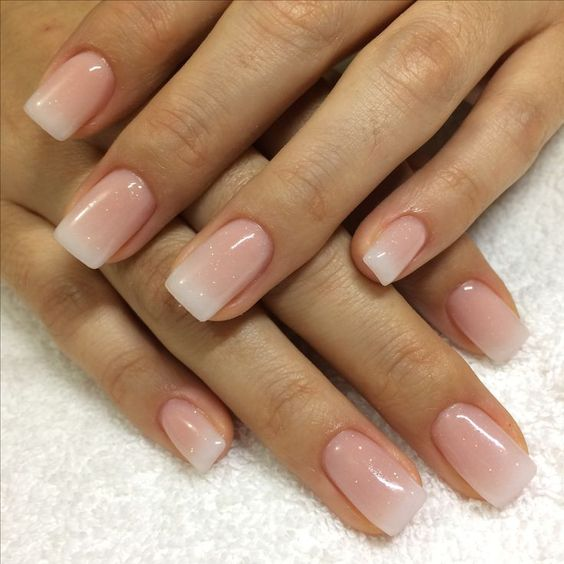nails: (313, 423, 429, 538), (426, 396, 537, 513), (162, 213, 276, 324), (52, 164, 161, 273), (17, 43, 125, 141), (440, 271, 534, 370), (150, 390, 229, 475), (360, 208, 430, 290)
